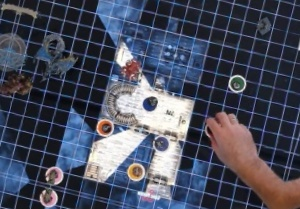blue: (139, 93, 162, 113)
green: (225, 71, 252, 97)
orange: (95, 116, 118, 139)
pink: (39, 162, 67, 188)
red: (203, 116, 225, 139)
violet: (150, 132, 172, 154)
yellow: (121, 157, 150, 186)
